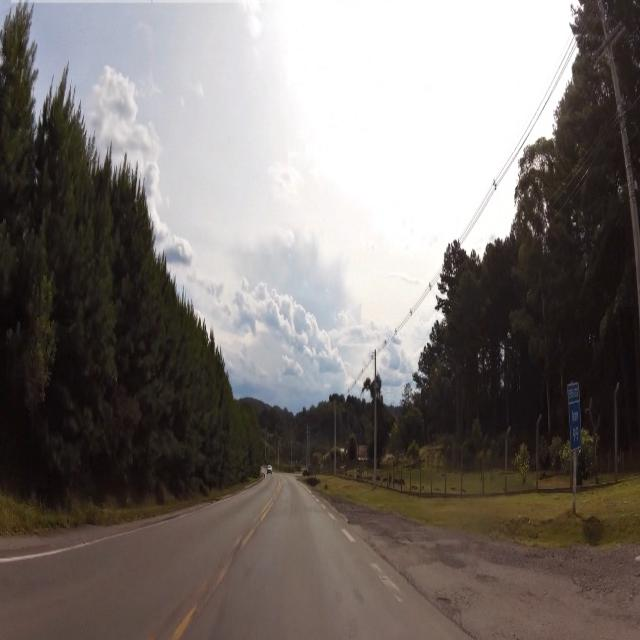RQ: (566, 386, 590, 452)
